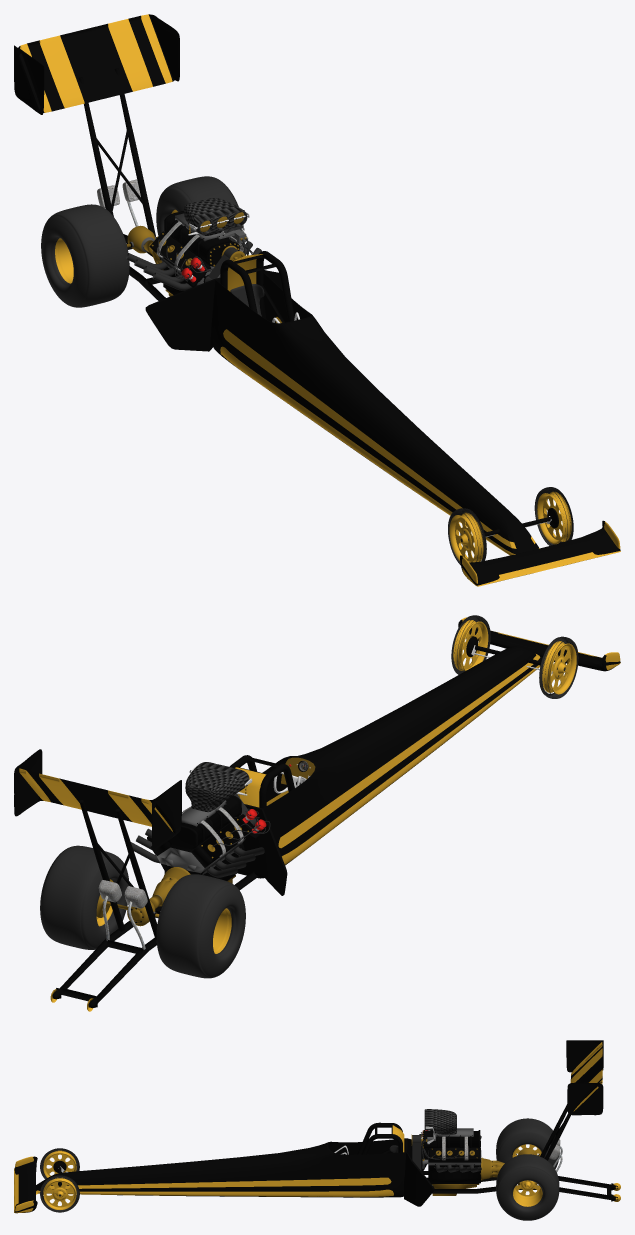
Rendered from top_fuel_dragster.glb.
The picture shows the model from 3 angles, top to bottom: view 1: azimuth 30°, elevation 25°; view 2: azimuth 150°, elevation 25°; view 3: azimuth 270°, elevation 25°; orthographic projection. The views are drawn at different scales.
Visible parts, largest first — view 1: Plane_67, Plane.001_20, Circle.017_50, Circle.024_65, Circle.018_21, Circle.015_48, Cube_64, Circle.008_12, Circle_5; view 2: Plane_67, Circle.024_65, Circle.017_50, Circle.015_48, Plane.001_20, Circle.018_21, Cube_64, Circle.008_12, Circle_5, Circle.014_13, Circle.016_49; view 3: Plane_67, Circle.024_65, Circle.015_48, Plane.001_20, Circle.018_21, Circle.017_50, Circle_5, Cube_64, Circle.006_47, Circle.008_12, Circle.007_6.
Part boxes in pixels (<box>): Plane_67: <box>145,270,620,586</box>; Plane.001_20: <box>14,14,179,114</box>; Circle.017_50: <box>41,204,129,307</box>; Circle.024_65: <box>126,211,261,296</box>; Circle.018_21: <box>78,68,294,322</box>; Circle.015_48: <box>156,176,244,248</box>; Cube_64: <box>184,198,247,235</box>; Circle.008_12: <box>449,512,483,562</box>; Circle_5: <box>537,491,571,544</box>; Plane_67: <box>147,617,620,895</box>; Circle.024_65: <box>96,794,266,926</box>; Circle.017_50: <box>156,874,245,978</box>; Circle.015_48: <box>40,845,129,949</box>; Plane.001_20: <box>14,749,181,850</box>; Circle.018_21: <box>50,755,294,1011</box>; Cube_64: <box>185,762,249,812</box>; Circle.008_12: <box>542,641,576,694</box>; Circle_5: <box>453,620,488,670</box>; Circle.014_13: <box>539,636,578,698</box>; Circle.016_49: <box>213,908,231,953</box>; Plane_67: <box>14,1138,434,1213</box>; Circle.024_65: <box>411,1128,537,1195</box>; Circle.015_48: <box>496,1154,559,1220</box>; Plane.001_20: <box>566,1040,603,1115</box>; Circle.018_21: <box>357,1076,620,1201</box>; Circle.017_50: <box>496,1118,559,1169</box>; Circle_5: <box>43,1177,76,1209</box>; Cube_64: <box>424,1109,456,1134</box>; Circle.006_47: <box>513,1180,542,1206</box>; Circle.008_12: <box>43,1150,76,1177</box>; Circle.007_6: <box>40,1175,79,1212</box>.
Size of the model in its own units: 3.46 by 4.25 by 17.09.
Materials: 91 (4 with a texture image).
